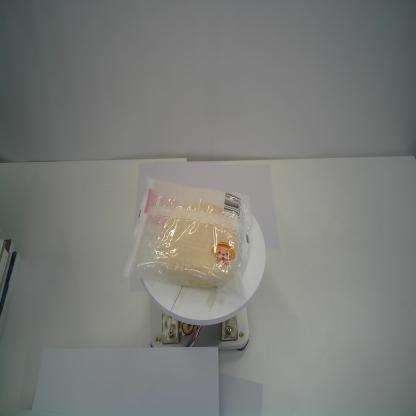Dessert: (121, 174, 254, 306)
